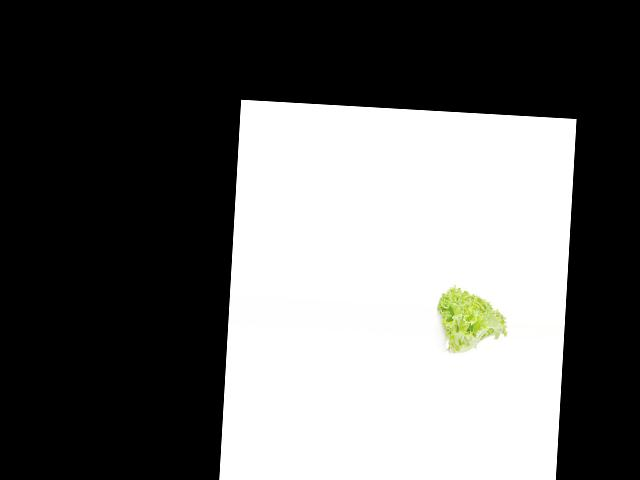lettuce: (434, 280, 512, 361)
